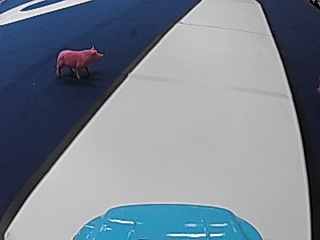pig: (53, 44, 104, 77)
